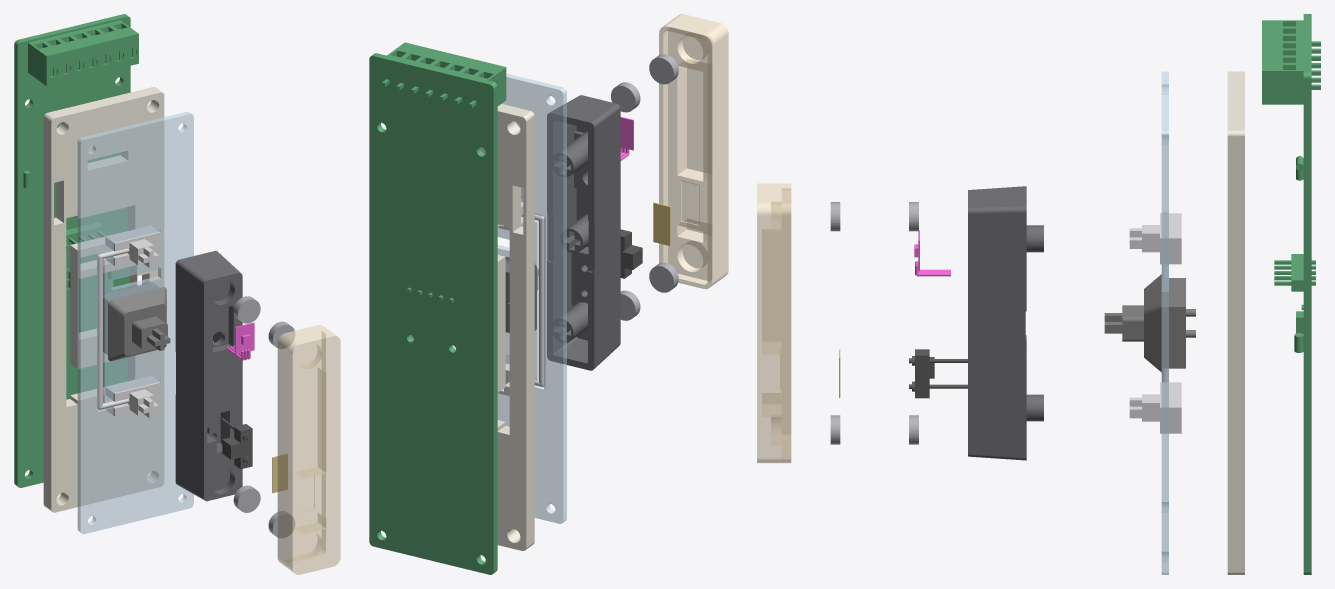
File: stack_exploded.glb
3 renders of one model, left to right at view 1: azimuth 30°, elevation 25°; view 2: azimuth 150°, elevation 25°; view 3: azimuth 270°, elevation 25°, orthographic. The views are drawn at different scales.
Visible parts, largest first — view 1: 3_acrylic_plate, 2_foam, 1_pcb, 5_topper, 4_key, 3b_stabilizer, 3a_switch, 4b_magnets_key, 5a_magnets_topper, 4c_pogo_connector, 4a_rgb_led_strip_piece, 5b_short_plate; view 2: 1_pcb, 4_key, 5_topper, 2_foam, 3_acrylic_plate, 3b_stabilizer, 5a_magnets_topper, 4b_magnets_key, 4c_pogo_connector, 5b_short_plate, 3a_switch, 4a_rgb_led_strip_piece; view 3: 4_key, 1_pcb, 5_topper, 2_foam, 3a_switch, 3_acrylic_plate, 3b_stabilizer, 4c_pogo_connector.
Boxes of the visible parts, x1=… form: 3_acrylic_plate: x1=77, y1=111, x2=193, y2=534; 2_foam: x1=43, y1=87, x2=164, y2=512; 1_pcb: x1=14, y1=14, x2=138, y2=487; 5_topper: x1=277, y1=325, x2=340, y2=574; 4_key: x1=175, y1=250, x2=242, y2=501; 3b_stabilizer: x1=97, y1=226, x2=160, y2=417; 3a_switch: x1=103, y1=282, x2=170, y2=361; 4b_magnets_key: x1=233, y1=296, x2=260, y2=512; 5a_magnets_topper: x1=268, y1=321, x2=294, y2=537; 4c_pogo_connector: x1=221, y1=418, x2=252, y2=469; 4a_rgb_led_strip_piece: x1=226, y1=322, x2=254, y2=360; 5b_short_plate: x1=272, y1=454, x2=287, y2=492; 1_pcb: x1=369, y1=42, x2=506, y2=574; 4_key: x1=547, y1=95, x2=620, y2=370; 5_topper: x1=659, y1=14, x2=728, y2=289; 2_foam: x1=410, y1=104, x2=534, y2=550; 3_acrylic_plate: x1=497, y1=73, x2=566, y2=523; 3b_stabilizer: x1=498, y1=188, x2=545, y2=395; 5a_magnets_topper: x1=649, y1=54, x2=678, y2=292; 4b_magnets_key: x1=611, y1=82, x2=640, y2=320; 4c_pogo_connector: x1=620, y1=229, x2=642, y2=278; 5b_short_plate: x1=653, y1=202, x2=670, y2=245; 3a_switch: x1=505, y1=257, x2=538, y2=332; 4a_rgb_led_strip_piece: x1=620, y1=117, x2=633, y2=160; 4_key: x1=968, y1=186, x2=1043, y2=460; 1_pcb: x1=1262, y1=14, x2=1320, y2=574; 5_topper: x1=757, y1=183, x2=791, y2=463; 2_foam: x1=1227, y1=71, x2=1244, y2=574; 3a_switch: x1=1104, y1=274, x2=1195, y2=372; 3_acrylic_plate: x1=1161, y1=71, x2=1168, y2=574; 3b_stabilizer: x1=1129, y1=213, x2=1181, y2=433; 4c_pogo_connector: x1=909, y1=349, x2=967, y2=398.
Size of the model in its own units: 30 by 113 by 115.
